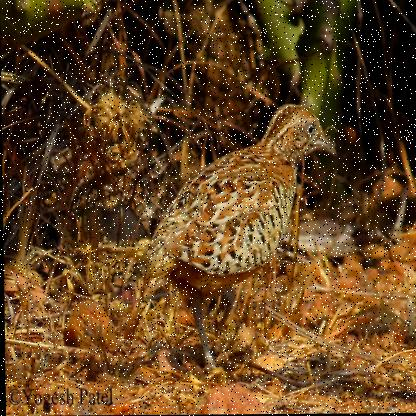Burung: (136, 103, 338, 375)
